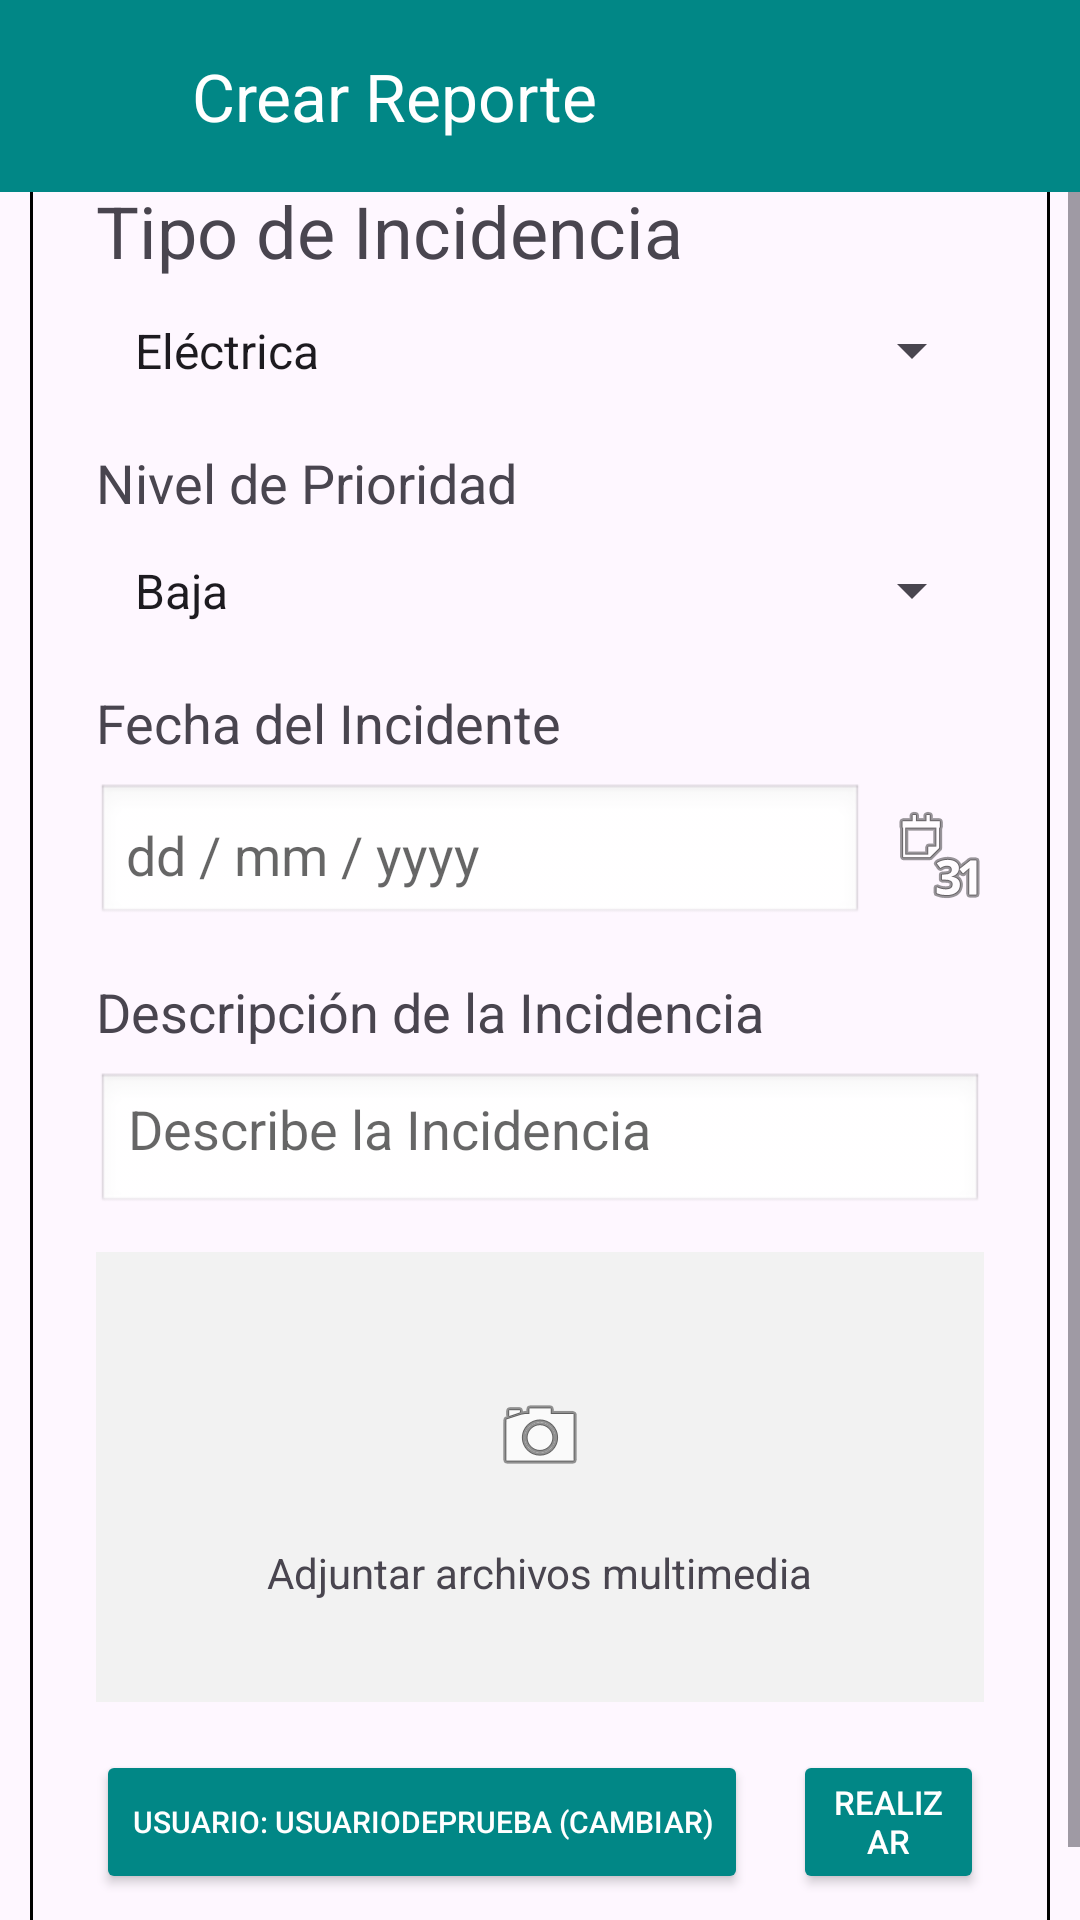

Locate icon controls on the screen. Image size 1080*1920, boxes as (x1, y1, x2, y2).
seleccionar fecha: (899, 812, 980, 898)
